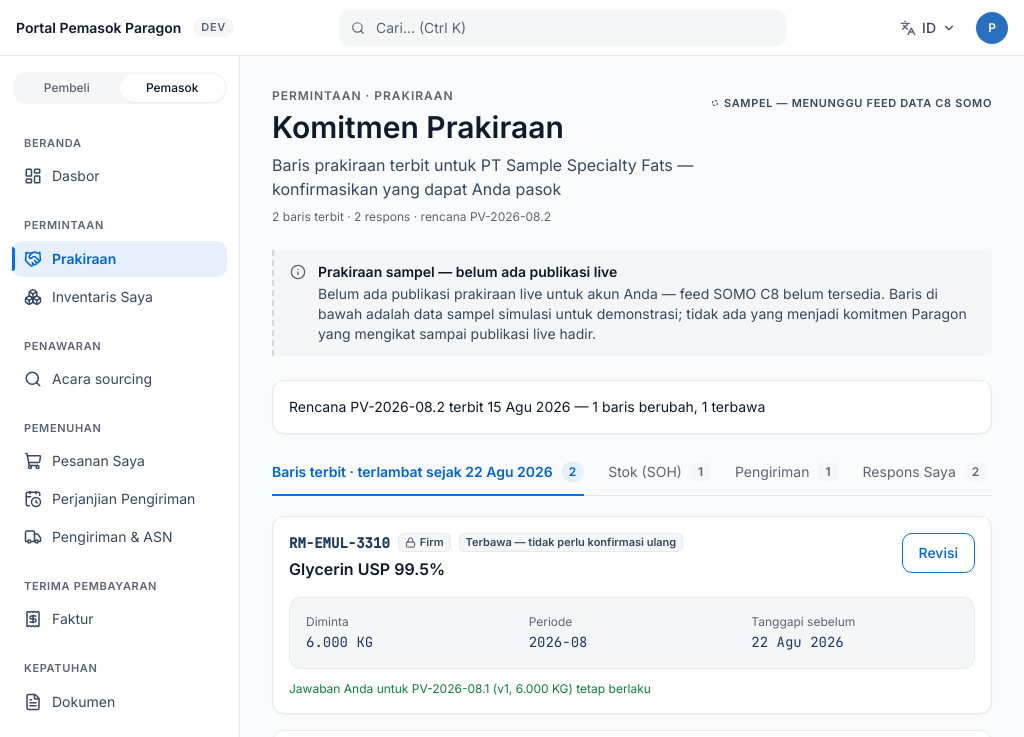
Scenario: R1a — ID from birth (not an EN string with a key around it) › renders the Indonesian actor line on a disputed response
Click the text "Respons Saya" at (909, 472), box [863, 462, 956, 482]
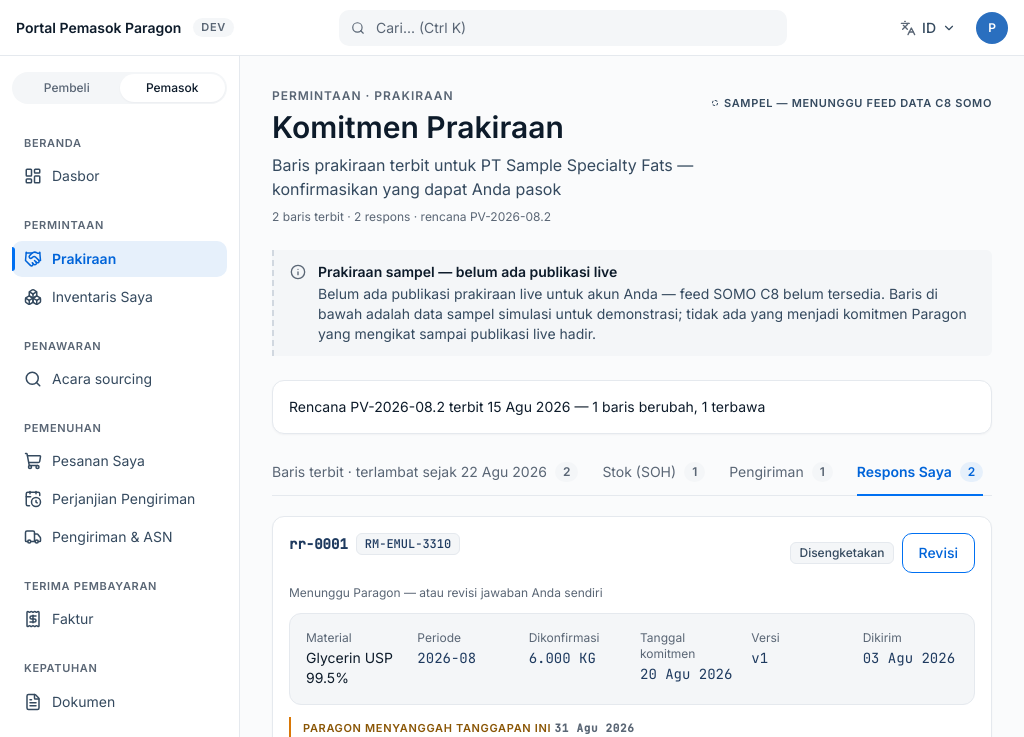
Expected: the text with test id "sdcsup-response-actor" reads "Menunggu Paragon — atau revisi jawaban Anda sendiri", [289, 585, 602, 600]
